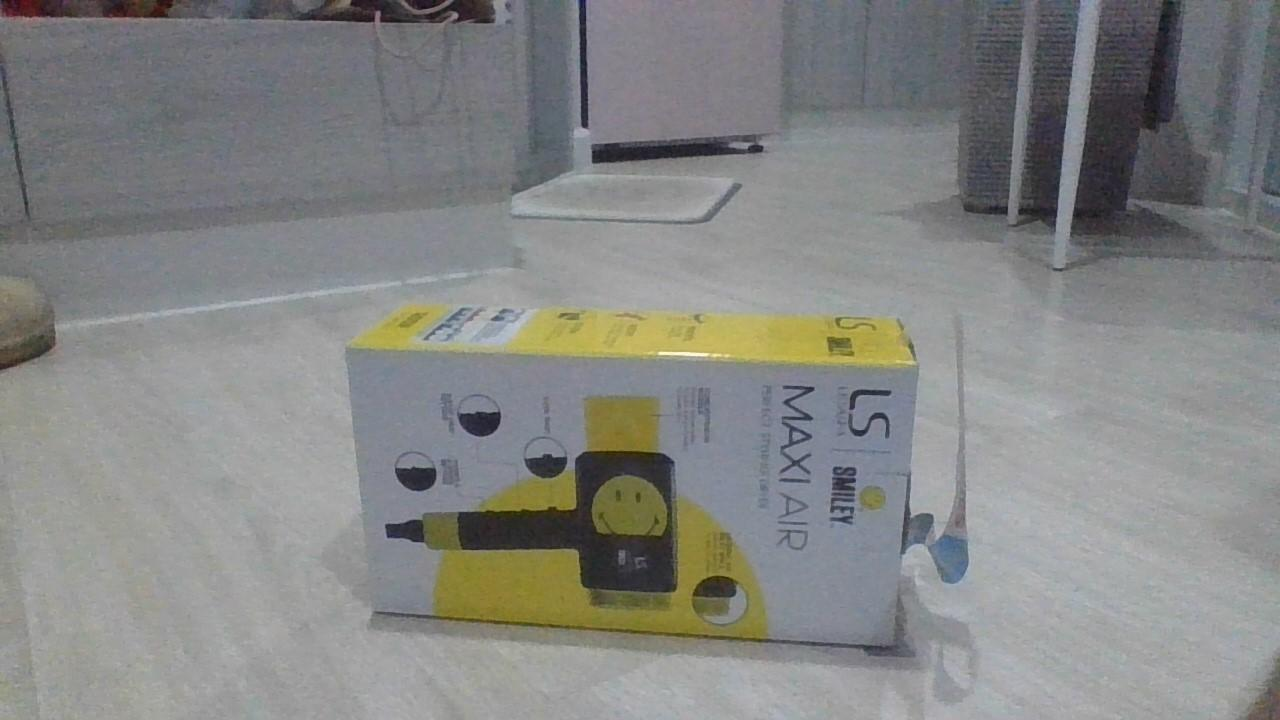IRON: (340, 297, 923, 655)
